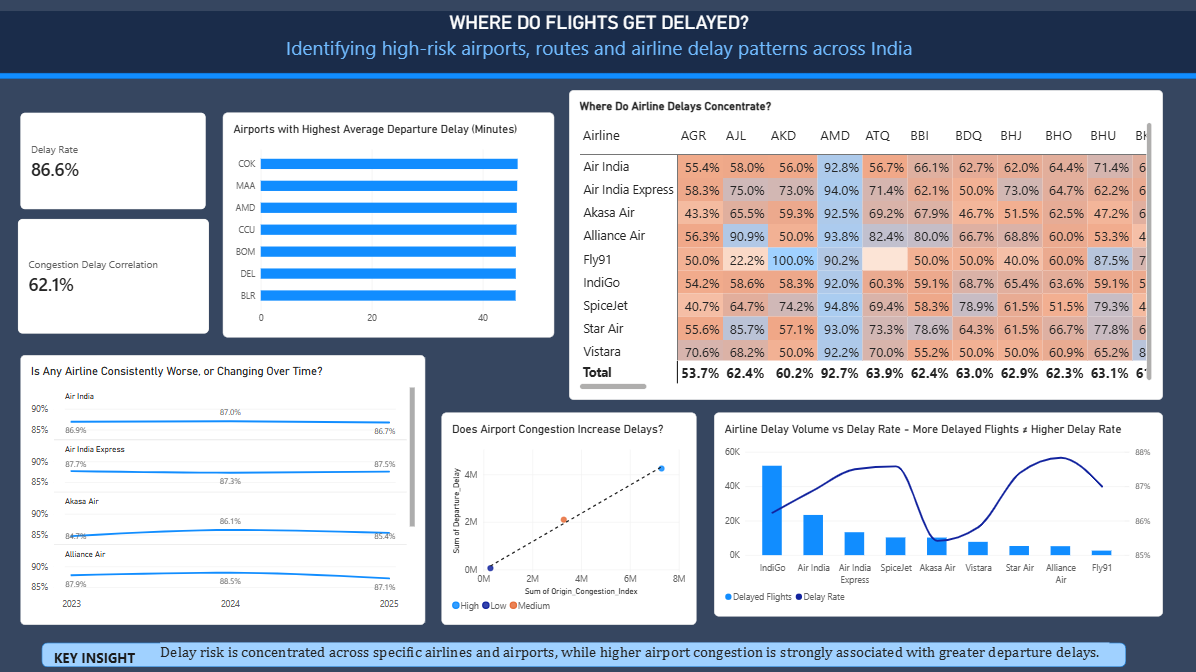

What the dashboard file says about the page in this screenshot:
{"tool":"powerbi","page":{"name":"Where & Airlines","canvas":[1920,1080],"ordinal":2},"visuals":[{"type":"cardVisual","title":"Overall Delay Rate","fields":{"Data":["indian-flight-delay-analysis.Delay Rate"]},"box":[33.3,180,297.2,155.6],"z":0},{"type":"cardVisual","fields":{"Data":["indian-flight-delay-analysis.Congestion Delay Correlation"]},"box":[30,350,306,184],"z":1000},{"type":"barChart","title":"Airports with Highest Average Departure Delay (Minutes)","fields":{"Category":["indian-flight-delay-analysis.Origin_Airport"],"Y":["indian-flight-delay-analysis.Avg Departure Delay"]},"box":[358,180,530,360],"z":2000},{"type":"scatterChart","title":"Does Airport Congestion Increase Delays?","fields":{"Series":["indian-flight-delay-analysis.Congestion_Bucket"],"X":["Sum(indian-flight-delay-analysis.Origin_Congestion_Index)"],"Y":["Sum(indian-flight-delay-analysis.Departure_Delay)"]},"box":[708,660,408,340],"z":3000},{"type":"lineClusteredColumnComboChart","title":"Airline Delay Volume vs Delay Rate - More Delayed Flights ≠ Higher Delay Rate","fields":{"Category":["indian-flight-delay-analysis.Airline"],"Y":["indian-flight-delay-analysis.Delayed Flights"],"Y2":["indian-flight-delay-analysis.Delay Rate"]},"box":[1144,660,718,326],"z":4000},{"type":"lineChart","title":"Is Any Airline Consistently Worse, or Changing Over Time?","fields":{"Category":["DateTable.Year"],"Rows":["indian-flight-delay-analysis.Airline"],"Y":["indian-flight-delay-analysis.Delay Rate"]},"box":[34,568,648,432],"z":5000},{"type":"pivotTable","title":"Where Do Airline Delays Concentrate?","fields":{"Columns":["indian-flight-delay-analysis.Origin_Airport"],"Rows":["indian-flight-delay-analysis.Airline"],"Values":["indian-flight-delay-analysis.Delay Rate"]},"box":[912,144,950,496],"z":6000},{"type":"shape","title":"WHERE DO FLIGHTS GET DELAYED?","box":[0,18.8,1920.8,108.3],"z":8000},{"type":"shape","box":[68,1028,1735.4,39.6],"z":9000},{"type":"textbox","box":[257.1,1027.2,1518.8,33.3],"z":10000}]}

Visuals, with their boxes in screenshot pixels (x1, y1, x2, y2), scaled from the page's 1920x1080 canvas onto the 1196x672 screenshot:
"Overall Delay Rate" cardVisual: [x1=21, y1=112, x2=206, y2=209]
cardVisual - indian-flight-delay-analysis.Congestion Delay Correlation: [x1=19, y1=218, x2=209, y2=332]
"Airports with Highest Average Departure Delay (Minutes)" barChart: [x1=223, y1=112, x2=553, y2=336]
"Does Airport Congestion Increase Delays?" scatterChart: [x1=441, y1=411, x2=695, y2=622]
"Airline Delay Volume vs Delay Rate - More Delayed Flights ≠ Higher Delay Rate" lineClusteredColumnComboChart: [x1=713, y1=411, x2=1160, y2=614]
"Is Any Airline Consistently Worse, or Changing Over Time?" lineChart: [x1=21, y1=353, x2=425, y2=622]
"Where Do Airline Delays Concentrate?" pivotTable: [x1=568, y1=90, x2=1160, y2=398]
"WHERE DO FLIGHTS GET DELAYED?" shape: [x1=0, y1=12, x2=1195, y2=79]
shape: [x1=42, y1=640, x2=1123, y2=664]
textbox: [x1=160, y1=639, x2=1106, y2=660]
